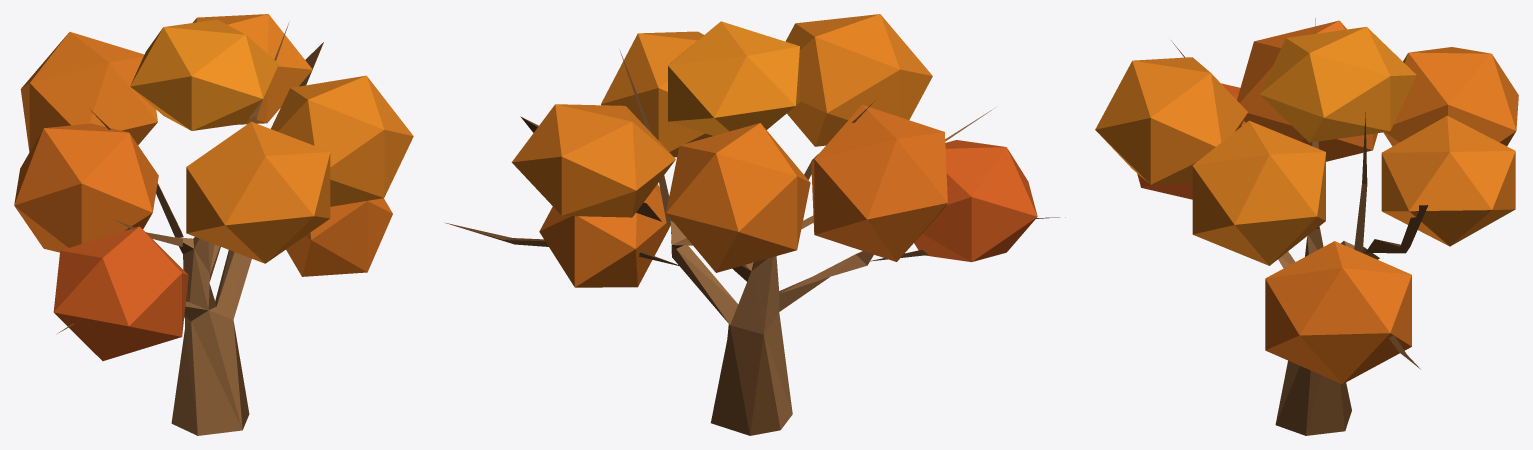
The model's file is apple_autumn_far.glb.
The picture shows the model from 3 angles, left to right: view 1: azimuth 30°, elevation 25°; view 2: azimuth 150°, elevation 25°; view 3: azimuth 270°, elevation 25°; orthographic projection. The views are drawn at different scales.
Visible parts, largest first — view 1: apple_autumn_far; view 2: apple_autumn_far; view 3: apple_autumn_far.
Part boxes in pixels (<box>): apple_autumn_far: <box>14,14,413,435</box>; apple_autumn_far: <box>446,14,1065,435</box>; apple_autumn_far: <box>1095,18,1518,435</box>.
Bounding box in the file's own units: 7.84 × 5.89 × 5.93.
